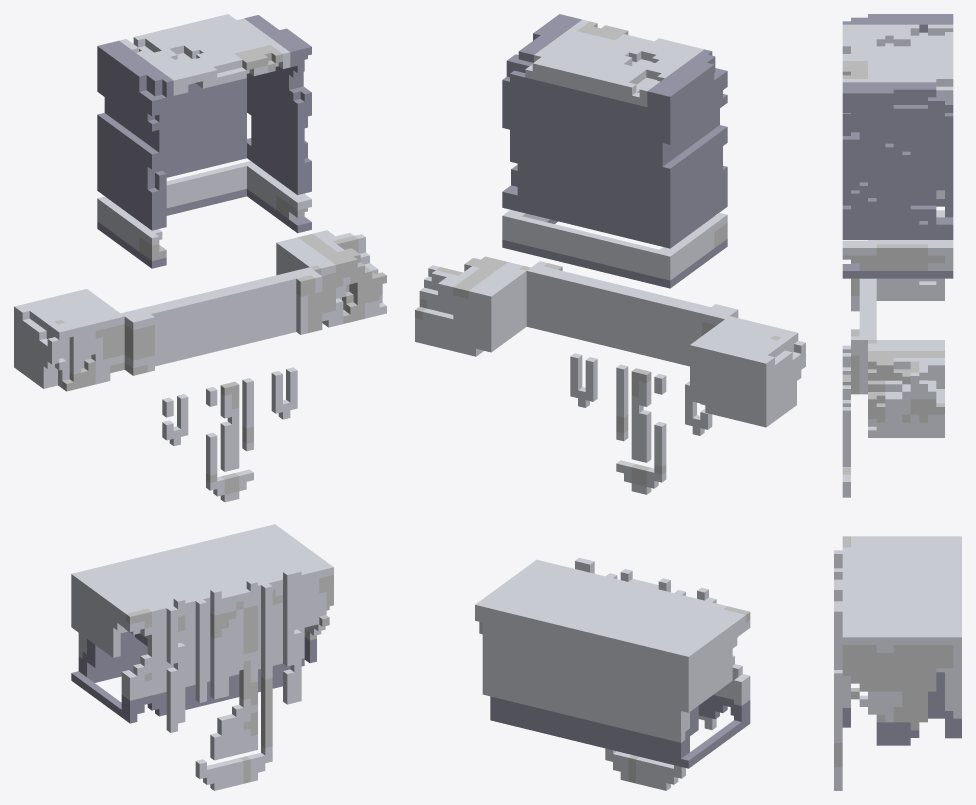
The model's file is Anubis_25-5.obj.
3 renders of one model, left to right at view 1: azimuth 30°, elevation 25°; view 2: azimuth 150°, elevation 25°; view 3: azimuth 270°, elevation 25°, orthographic. The views are drawn at different scales.
Bounding box in the file's own units: 4.6 × 9.4 × 1.5.
1 material, 1 textured.
